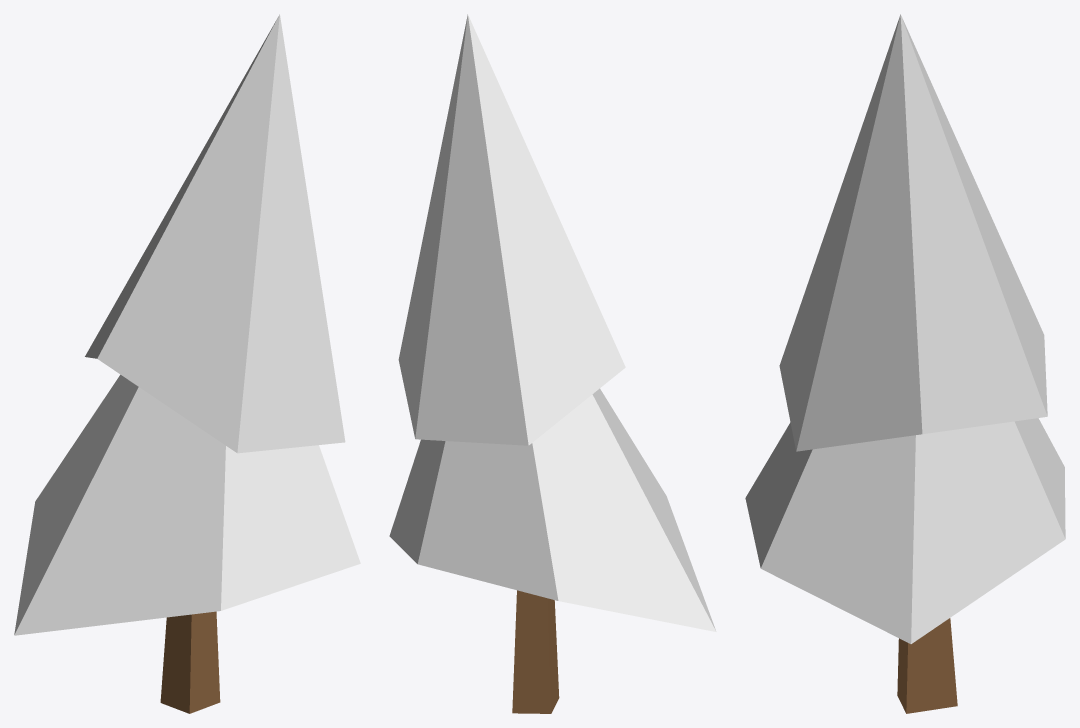
Rendered from Pine_Tree_s_Snow_09_LOD.fbx.
3 renders of one model, left to right at view 1: azimuth 30°, elevation 25°; view 2: azimuth 150°, elevation 25°; view 3: azimuth 270°, elevation 25°, orthographic. The views are drawn at different scales.
Parts seen in each view (by area): view 1: Pine_Tree_s_Snow_09_LOD0; view 2: Pine_Tree_s_Snow_09_LOD0; view 3: Pine_Tree_s_Snow_09_LOD0.
Boxes of the visible parts, bbox=[...] form: Pine_Tree_s_Snow_09_LOD0: bbox=[14, 14, 360, 713]; Pine_Tree_s_Snow_09_LOD0: bbox=[389, 14, 716, 713]; Pine_Tree_s_Snow_09_LOD0: bbox=[745, 14, 1065, 713].
Size of what is drawn, in the model's own units: 80.48 by 155 by 61.75.
